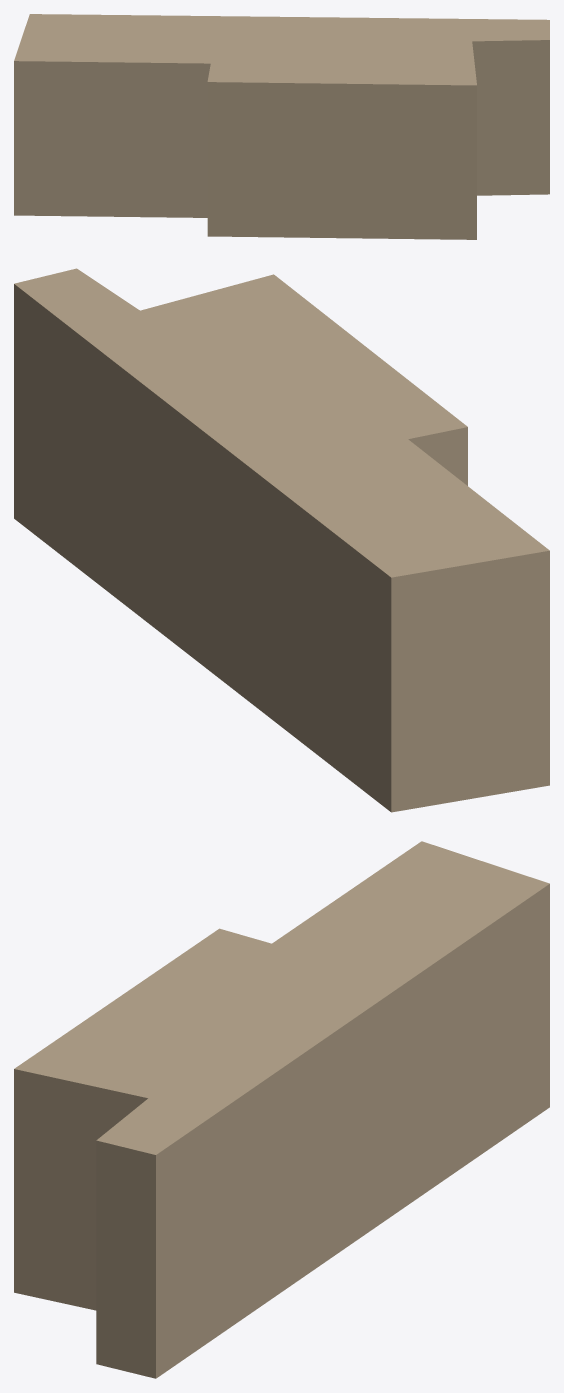
File: bld_107914699.dae
The picture shows the model from 3 angles, top to bottom: view 1: azimuth 30°, elevation 25°; view 2: azimuth 150°, elevation 25°; view 3: azimuth 270°, elevation 25°; orthographic projection. The views are drawn at different scales.
Visible parts, largest first — view 1: Paul Lucas Bathrooms & Kitchens; view 2: Paul Lucas Bathrooms & Kitchens; view 3: Paul Lucas Bathrooms & Kitchens.
Boxes of the visible parts, x1=… form: Paul Lucas Bathrooms & Kitchens: x1=14, y1=14, x2=549, y2=239; Paul Lucas Bathrooms & Kitchens: x1=14, y1=268, x2=549, y2=812; Paul Lucas Bathrooms & Kitchens: x1=14, y1=841, x2=549, y2=1378.
Bounding box in the file's own units: 24.08 × 17.37 × 8.
